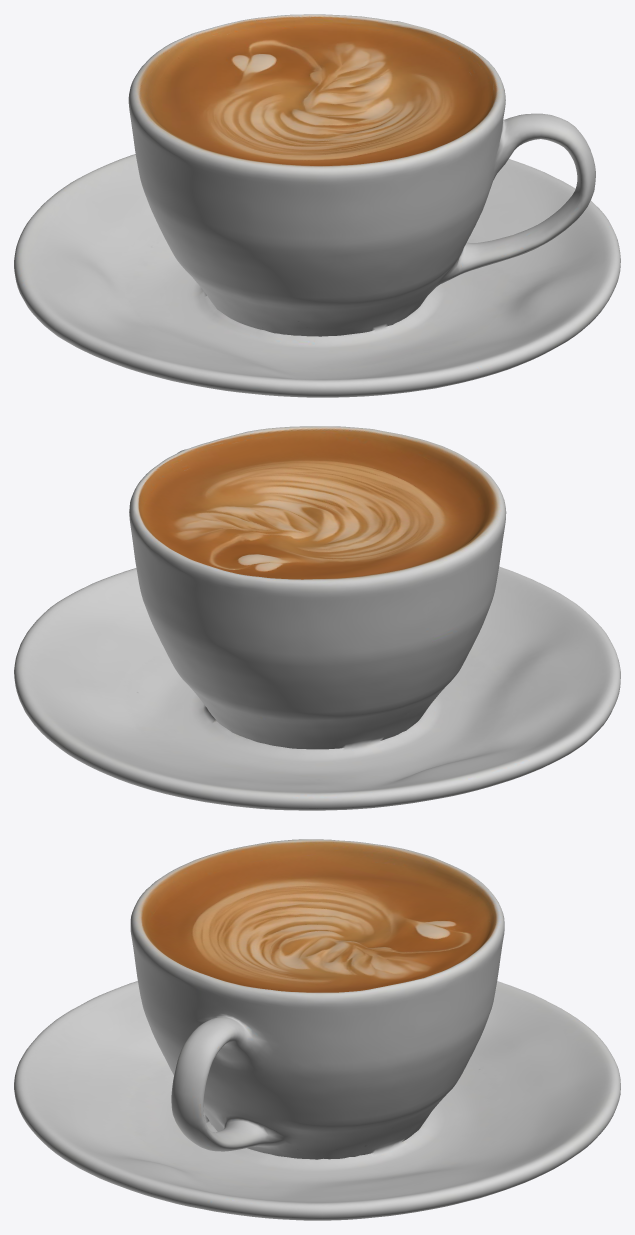
File: coffee cup 3d model.glb
3 views of the same model, one above another, from view 1: azimuth 30°, elevation 25°; view 2: azimuth 150°, elevation 25°; view 3: azimuth 270°, elevation 25° (orthographic).
Parts seen in each view (by area): view 1: tripo_node_20dcdee9; view 2: tripo_node_20dcdee9; view 3: tripo_node_20dcdee9.
Boxes of the visible parts, <box> form: tripo_node_20dcdee9: <box>14,14,620,397</box>; tripo_node_20dcdee9: <box>14,426,620,810</box>; tripo_node_20dcdee9: <box>14,839,620,1220</box>.
Size of the model in its own units: 99.91 by 39.07 by 99.7.
Materials: 1 (1 with a texture image).
